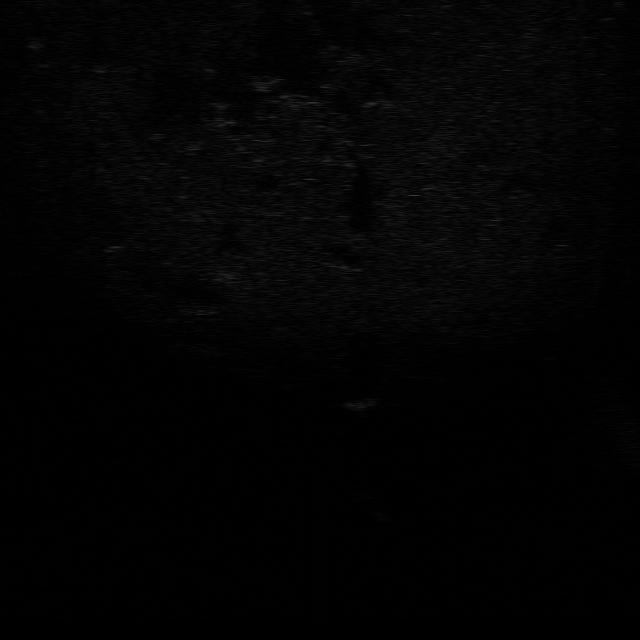square cage: (336, 392, 380, 415)
